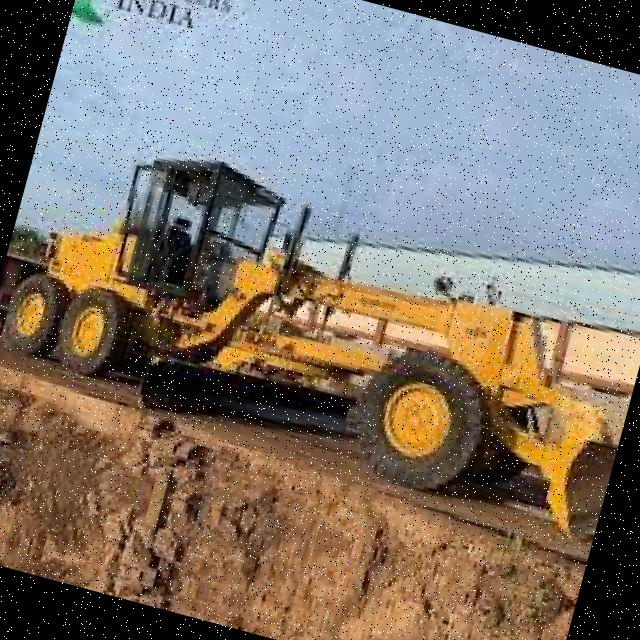Grader: (0, 90, 640, 580)
